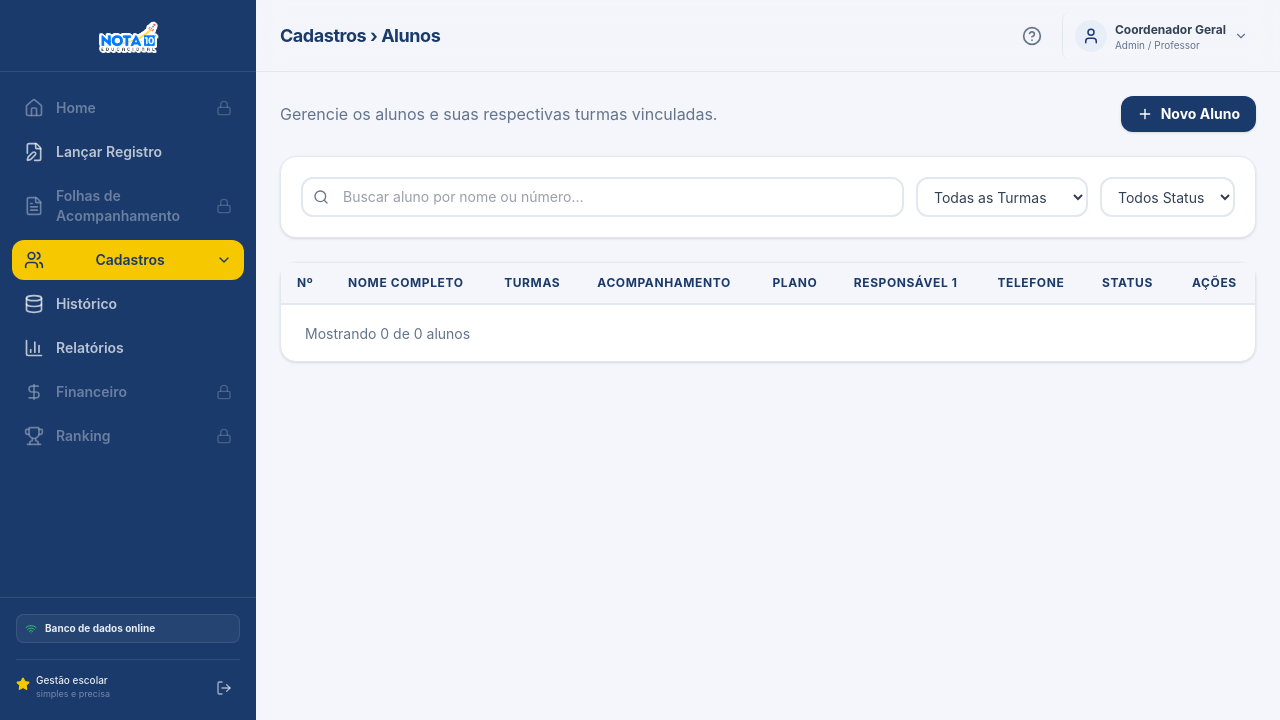
Scenario: Blindagem do Cadastro de Alunos › Deve bloquear a submissão de um formulário completamente em branco
# Abre o modal de Novo Aluno
Click the button "Novo Aluno" at (1189, 114), box [1121, 96, 1256, 132]
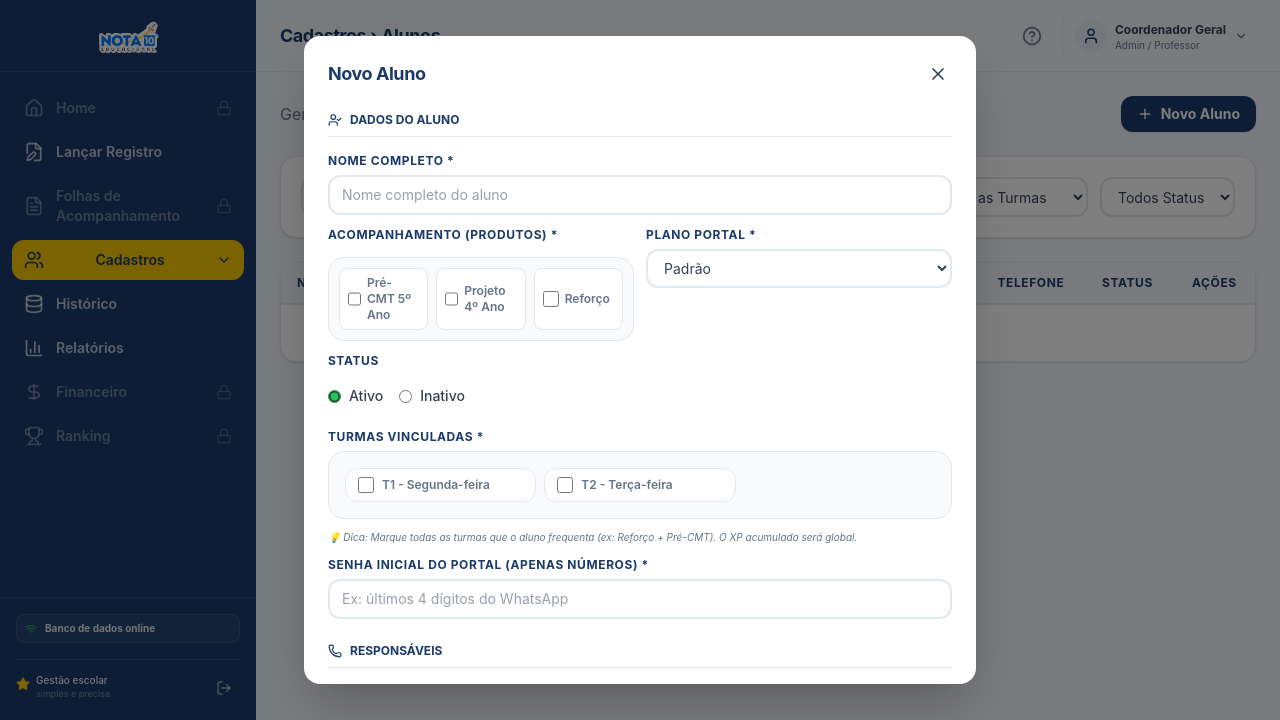
Scroll
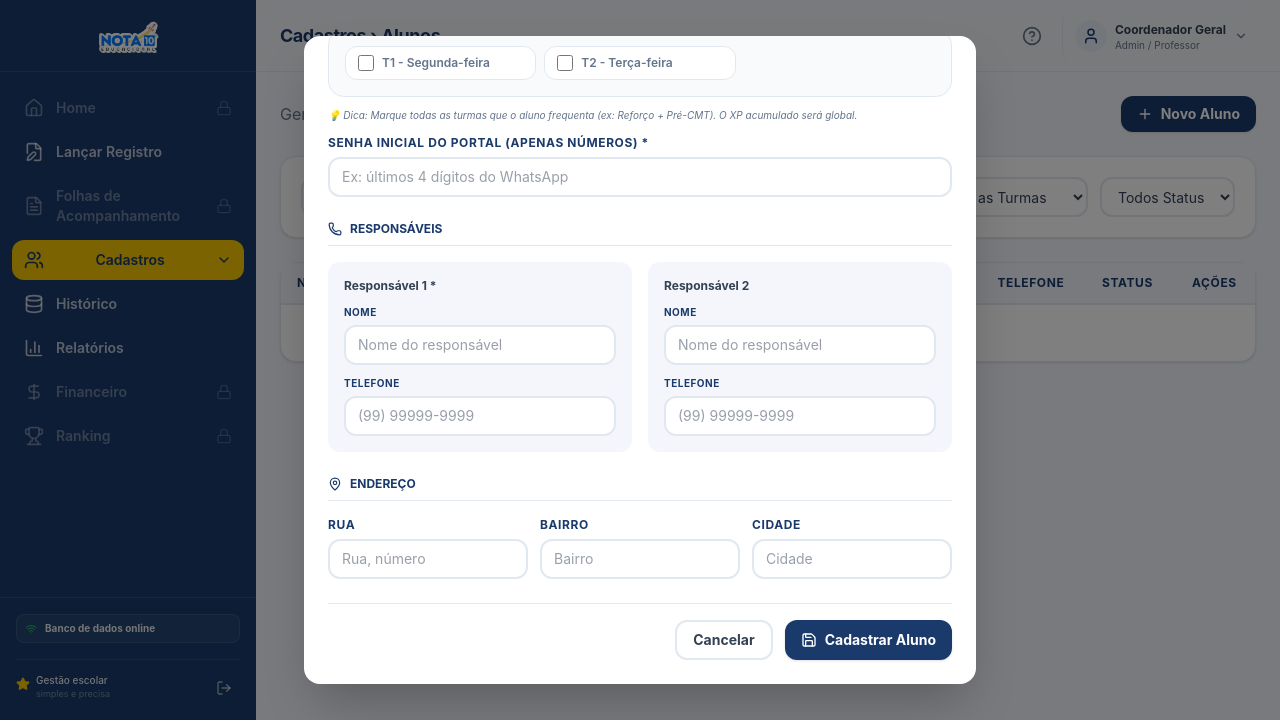
Click the submit button at (869, 640), box [785, 620, 952, 660]
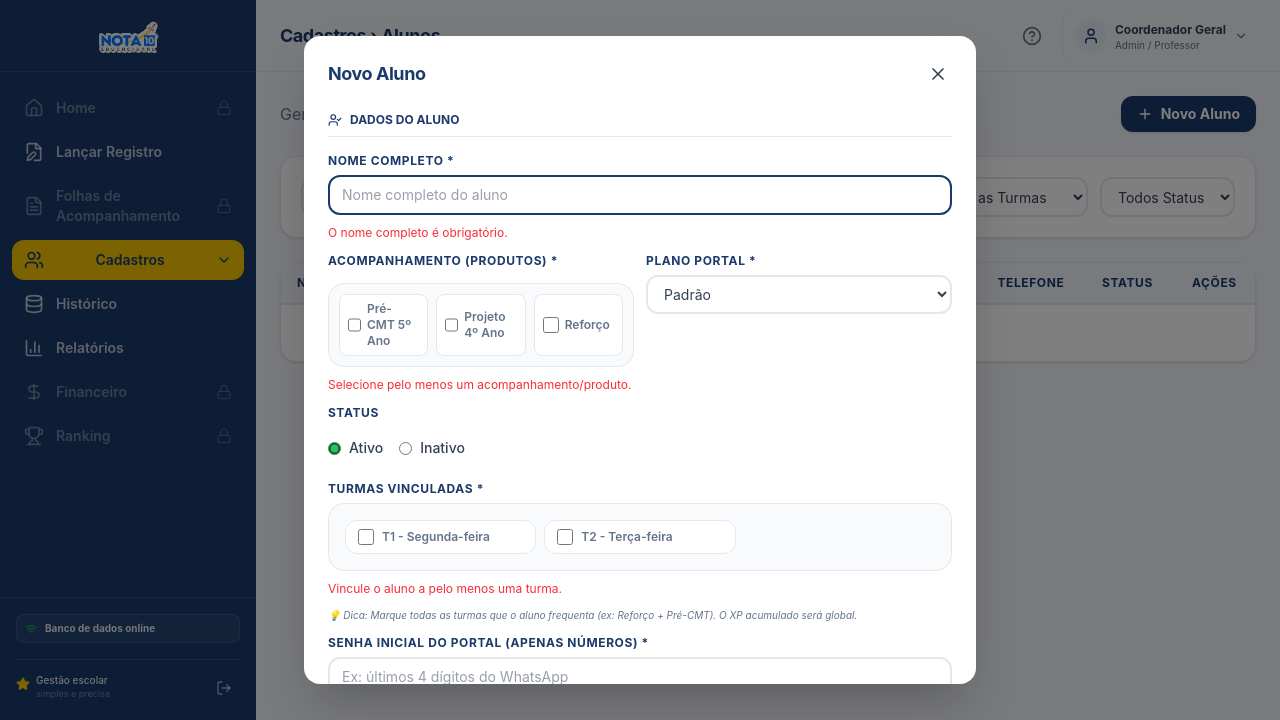
Expected: the text "O nome completo é obrigatório." is shown, [328, 225, 508, 240]
Expected: the text "Selecione pelo menos um acompanhamento/produto." is shown, [328, 377, 634, 393]
Expected: the text "Vincule o aluno a pelo menos uma turma." is shown, [328, 581, 562, 596]
